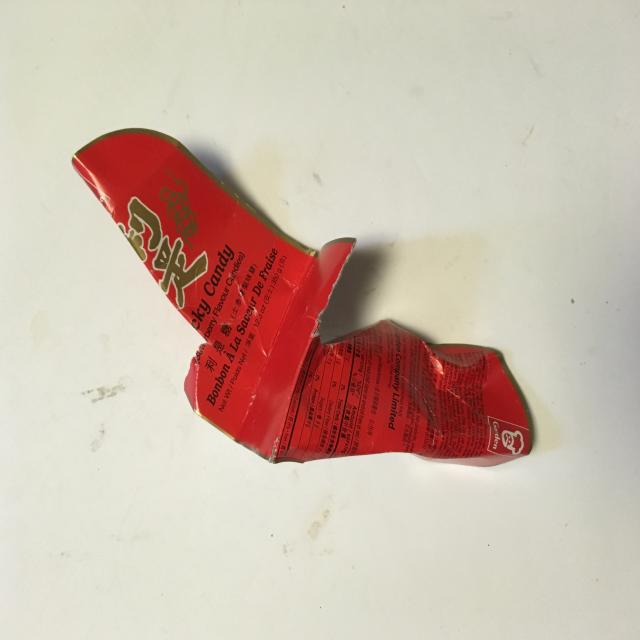paper: (54, 102, 550, 516)
